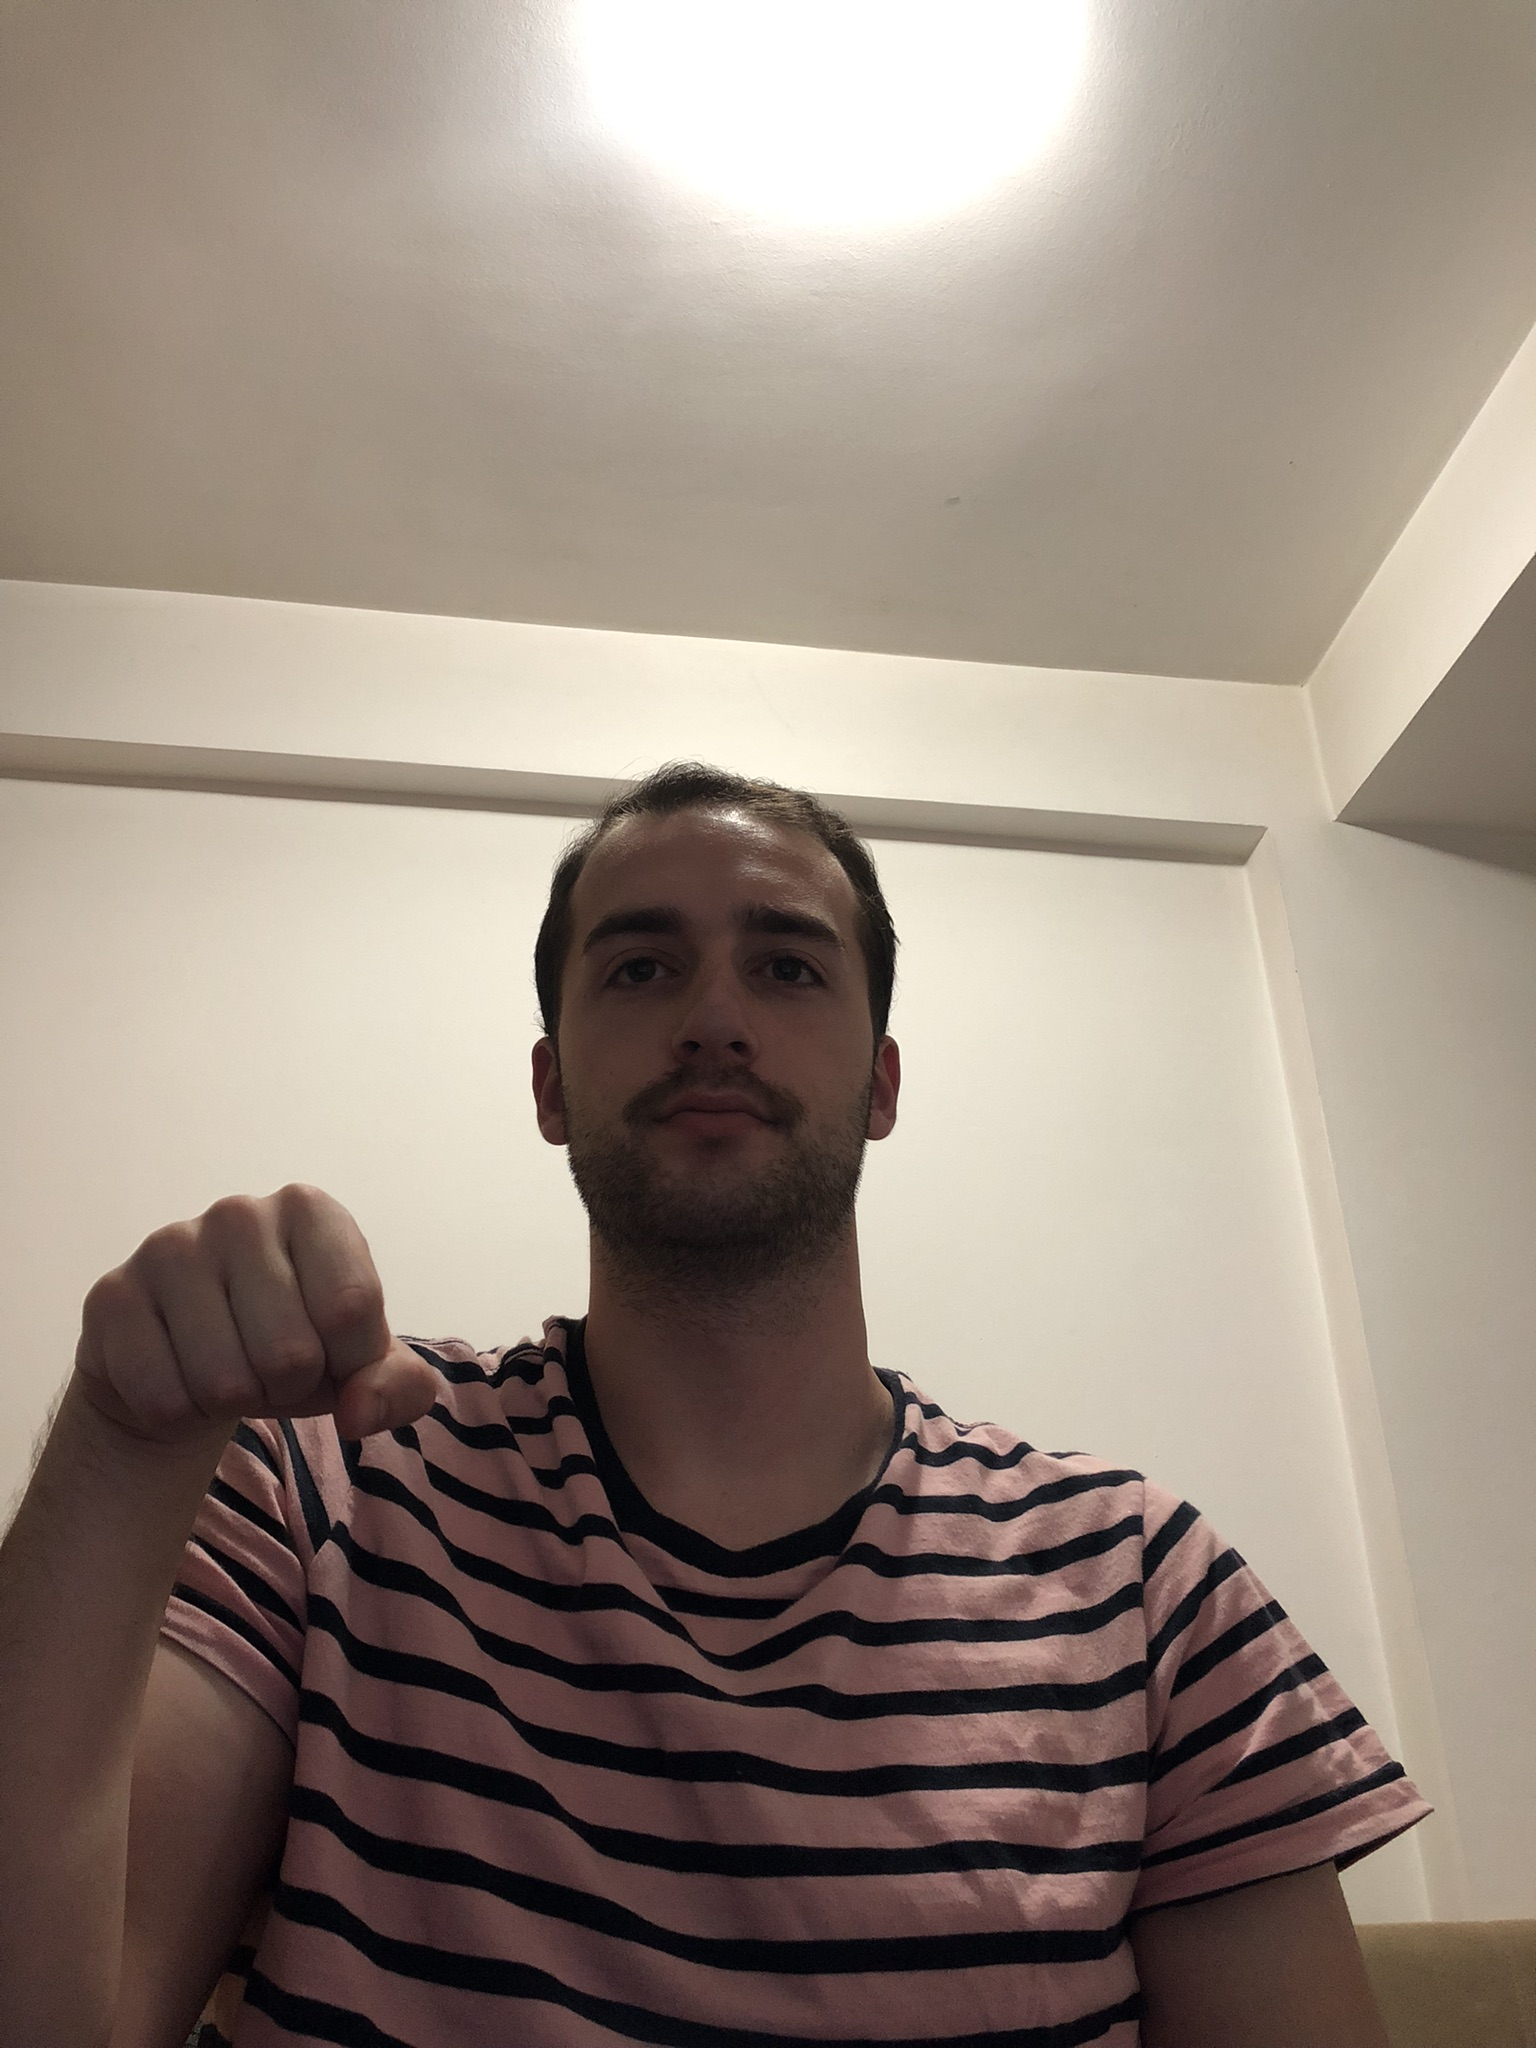Yes: (66, 1180, 437, 1472)
